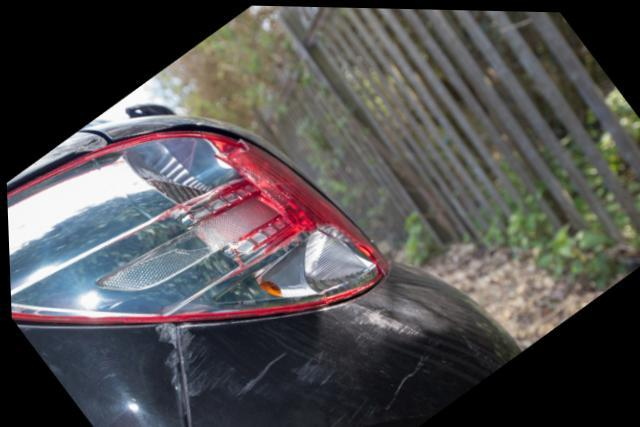lamp broken: (6, 122, 387, 328)
scratch: (176, 298, 432, 427), (153, 322, 182, 388)
